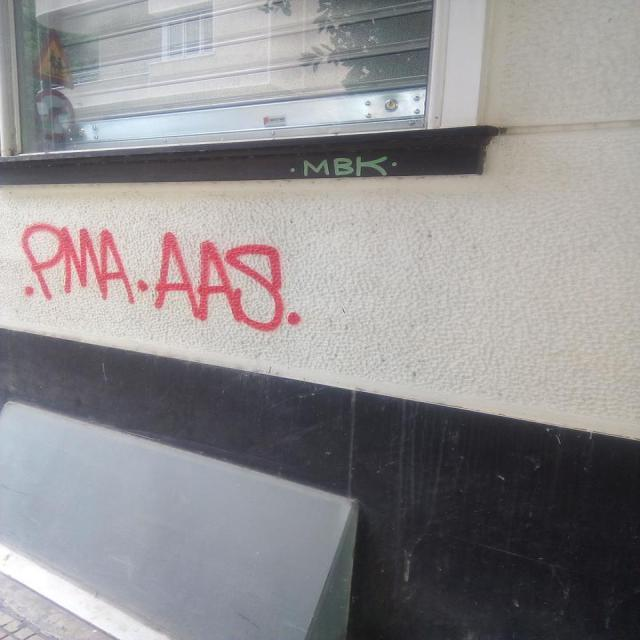nonspitting: (22, 221, 301, 333), (290, 154, 400, 177)
